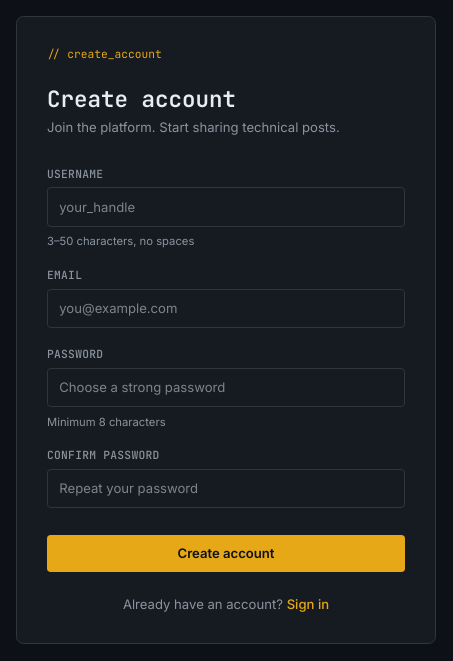
RegisterView › shows error when username is too short
This screenshot has width=453, height=661.
Type "ab" into the field with id "username" at x=226, y=207, box left=47, top=187, right=405, bottom=227
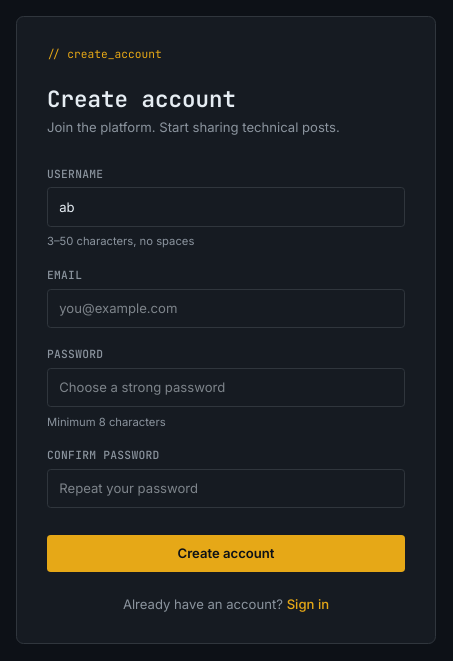
Type "test@test.com" into the field with id "email" at x=226, y=308, box left=47, top=289, right=405, bottom=328
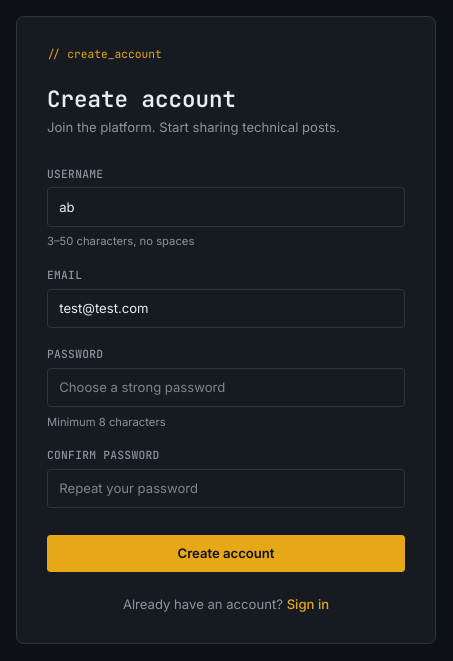
Type "password123" into the password field labelled "Password" at x=226, y=387, box left=47, top=368, right=405, bottom=407
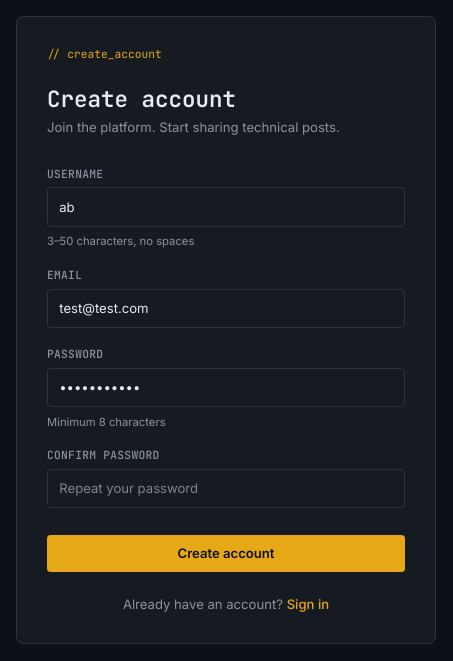
Type "password123" into the password field with id "confirmPassword" at x=226, y=489, box left=47, top=469, right=405, bottom=508
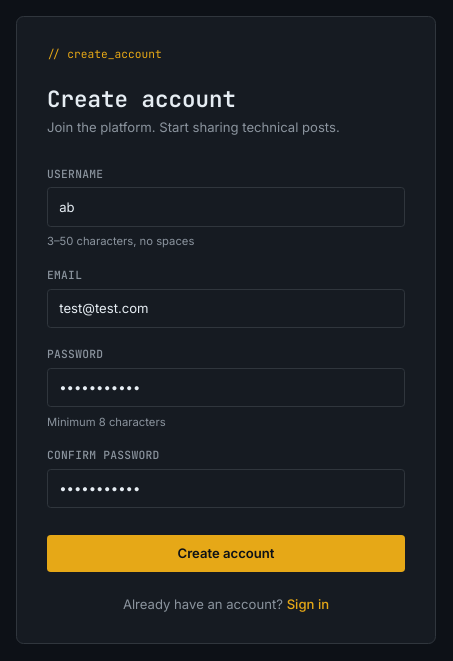
Submit the form, box left=47, top=167, right=405, bottom=572
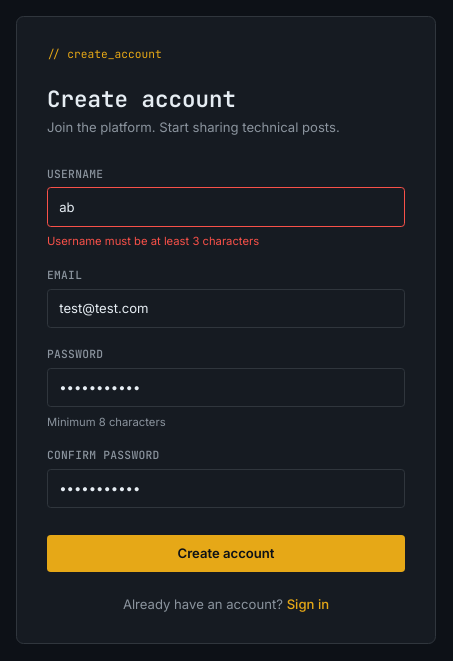
Now the text "at least 3" is shown, box left=47, top=234, right=259, bottom=248
